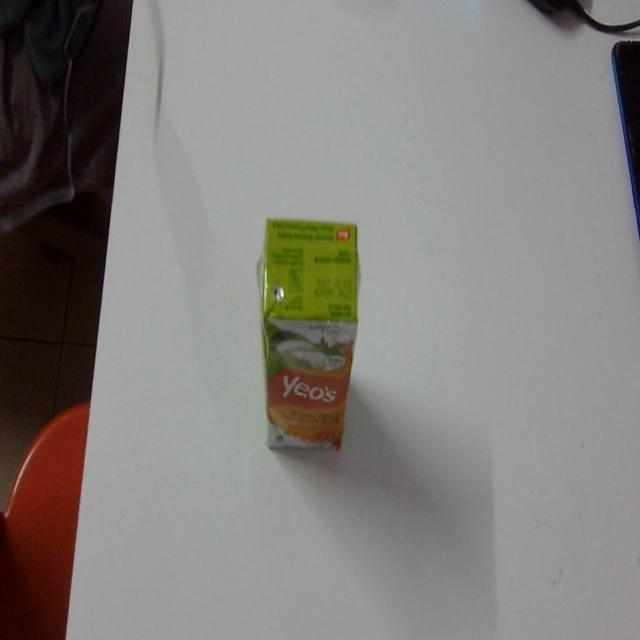plastic_standrotation: (249, 192, 368, 469)
